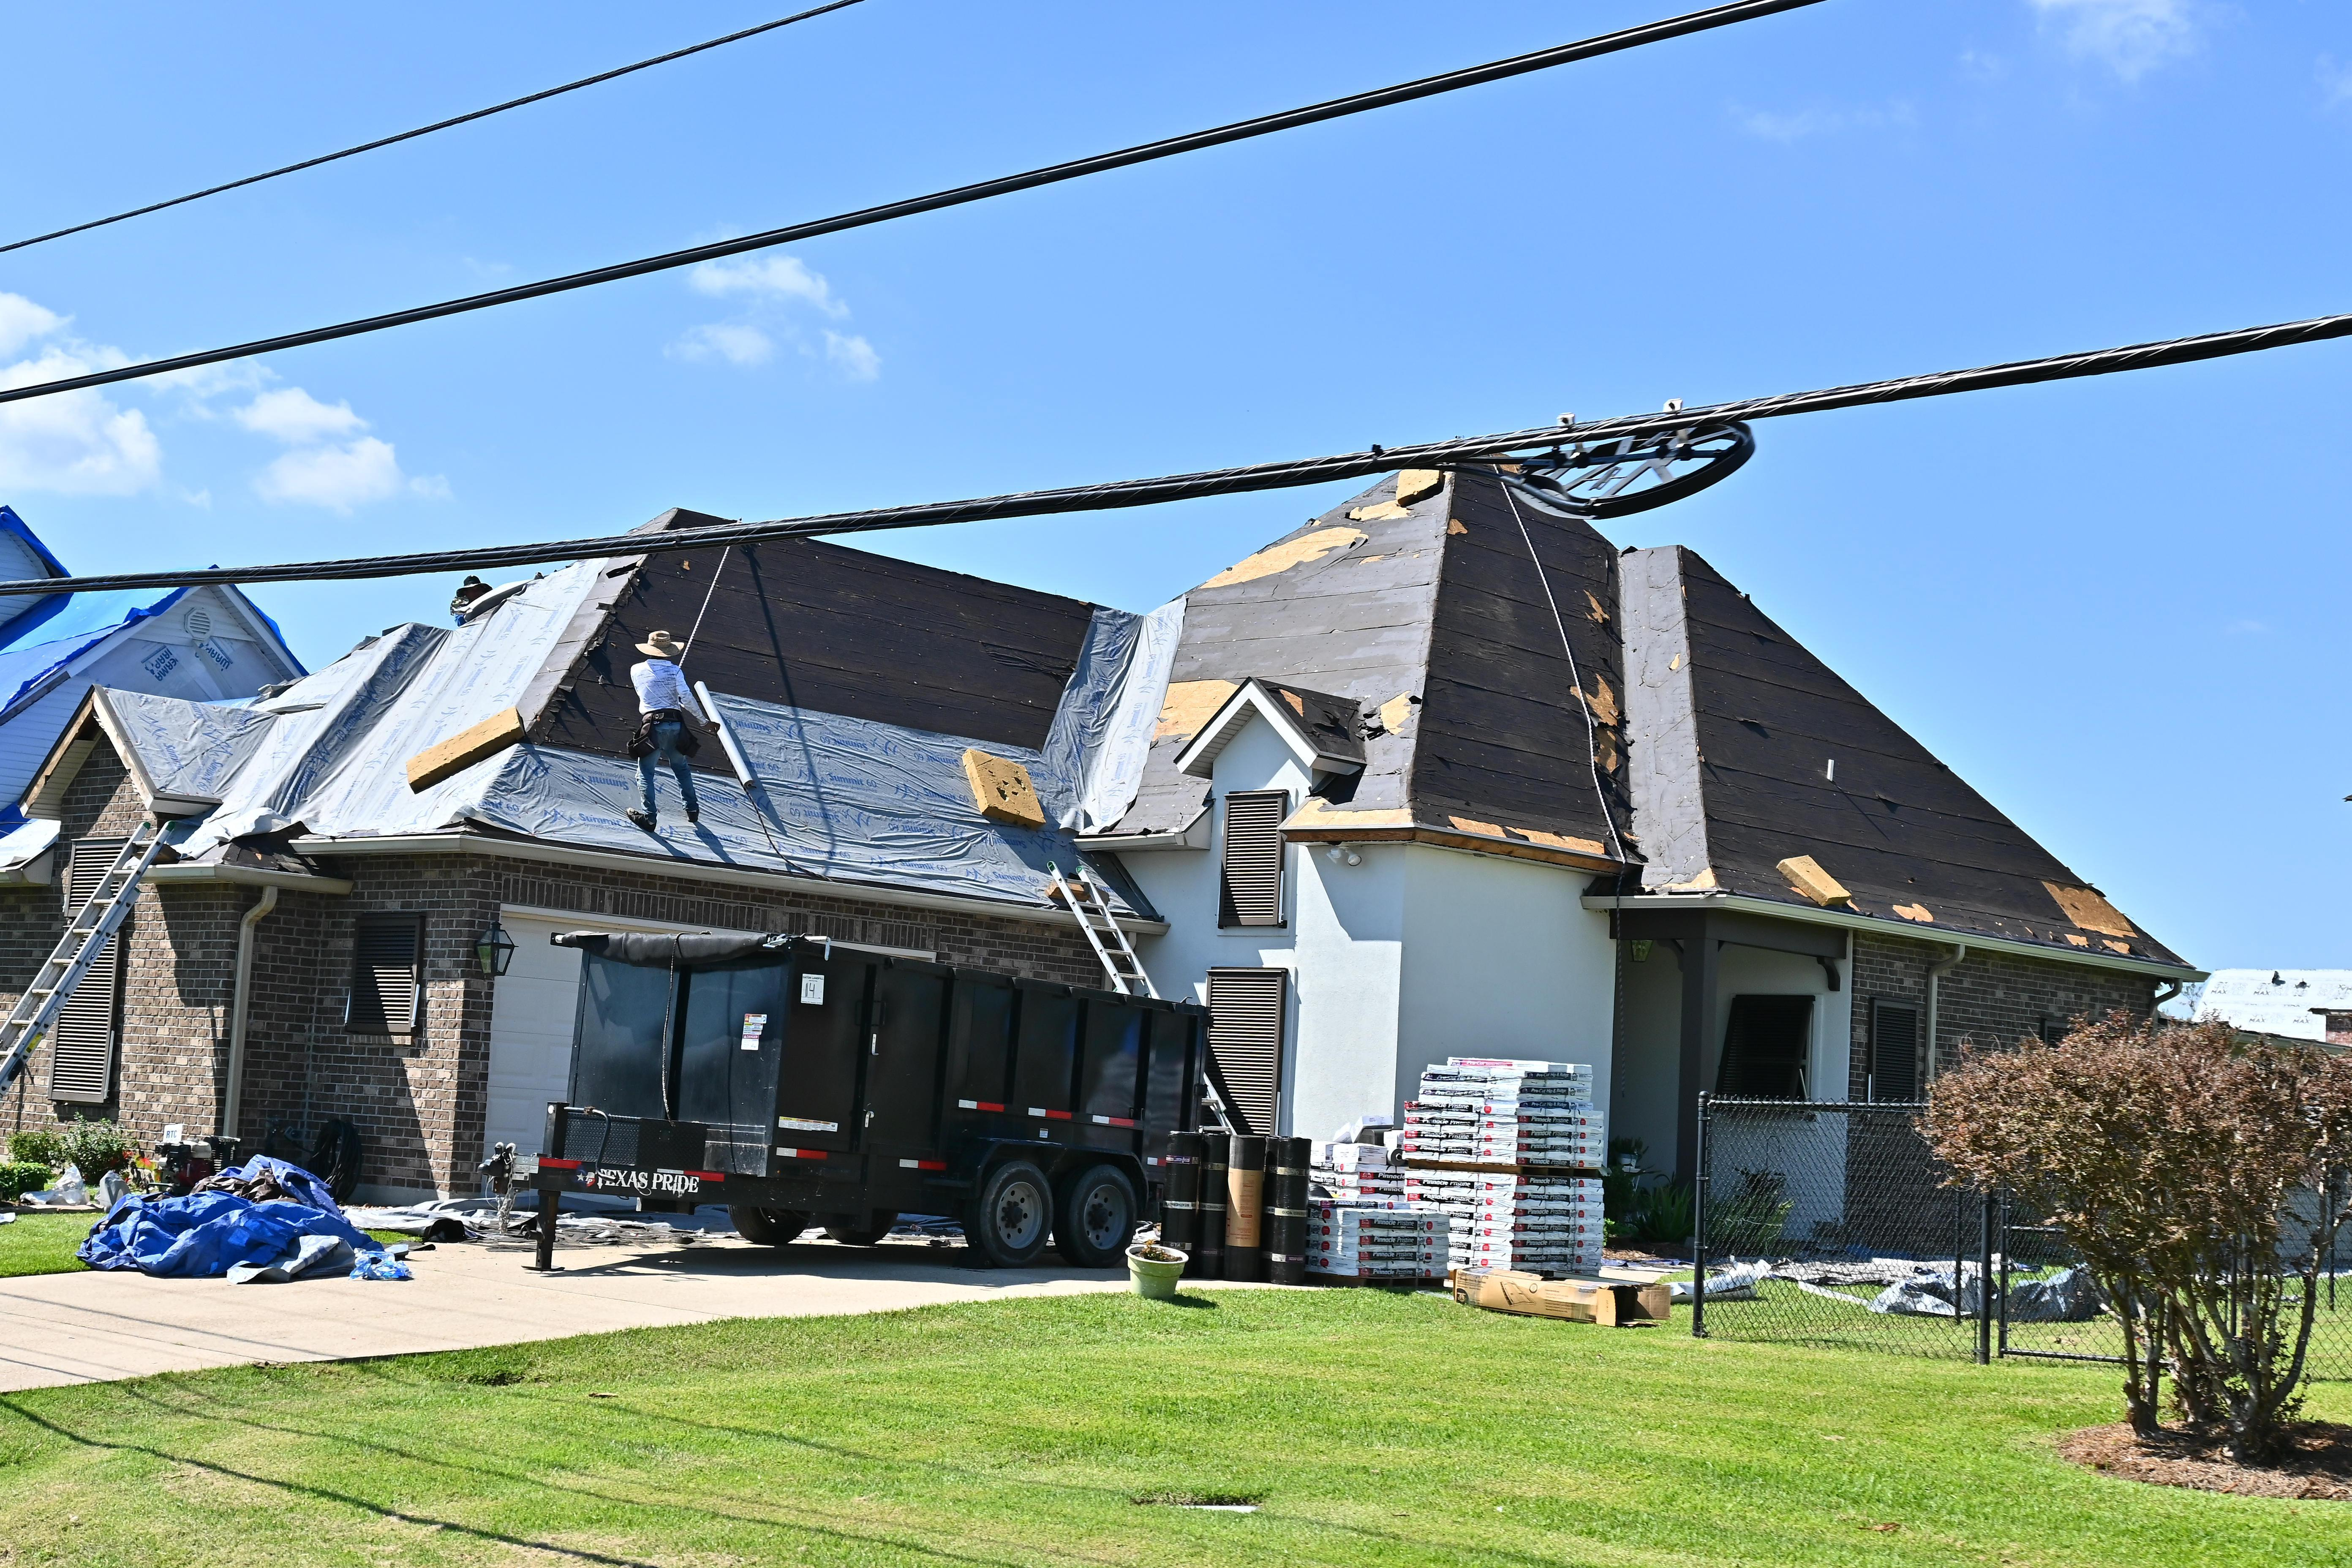major: (200, 368, 2226, 1307)
